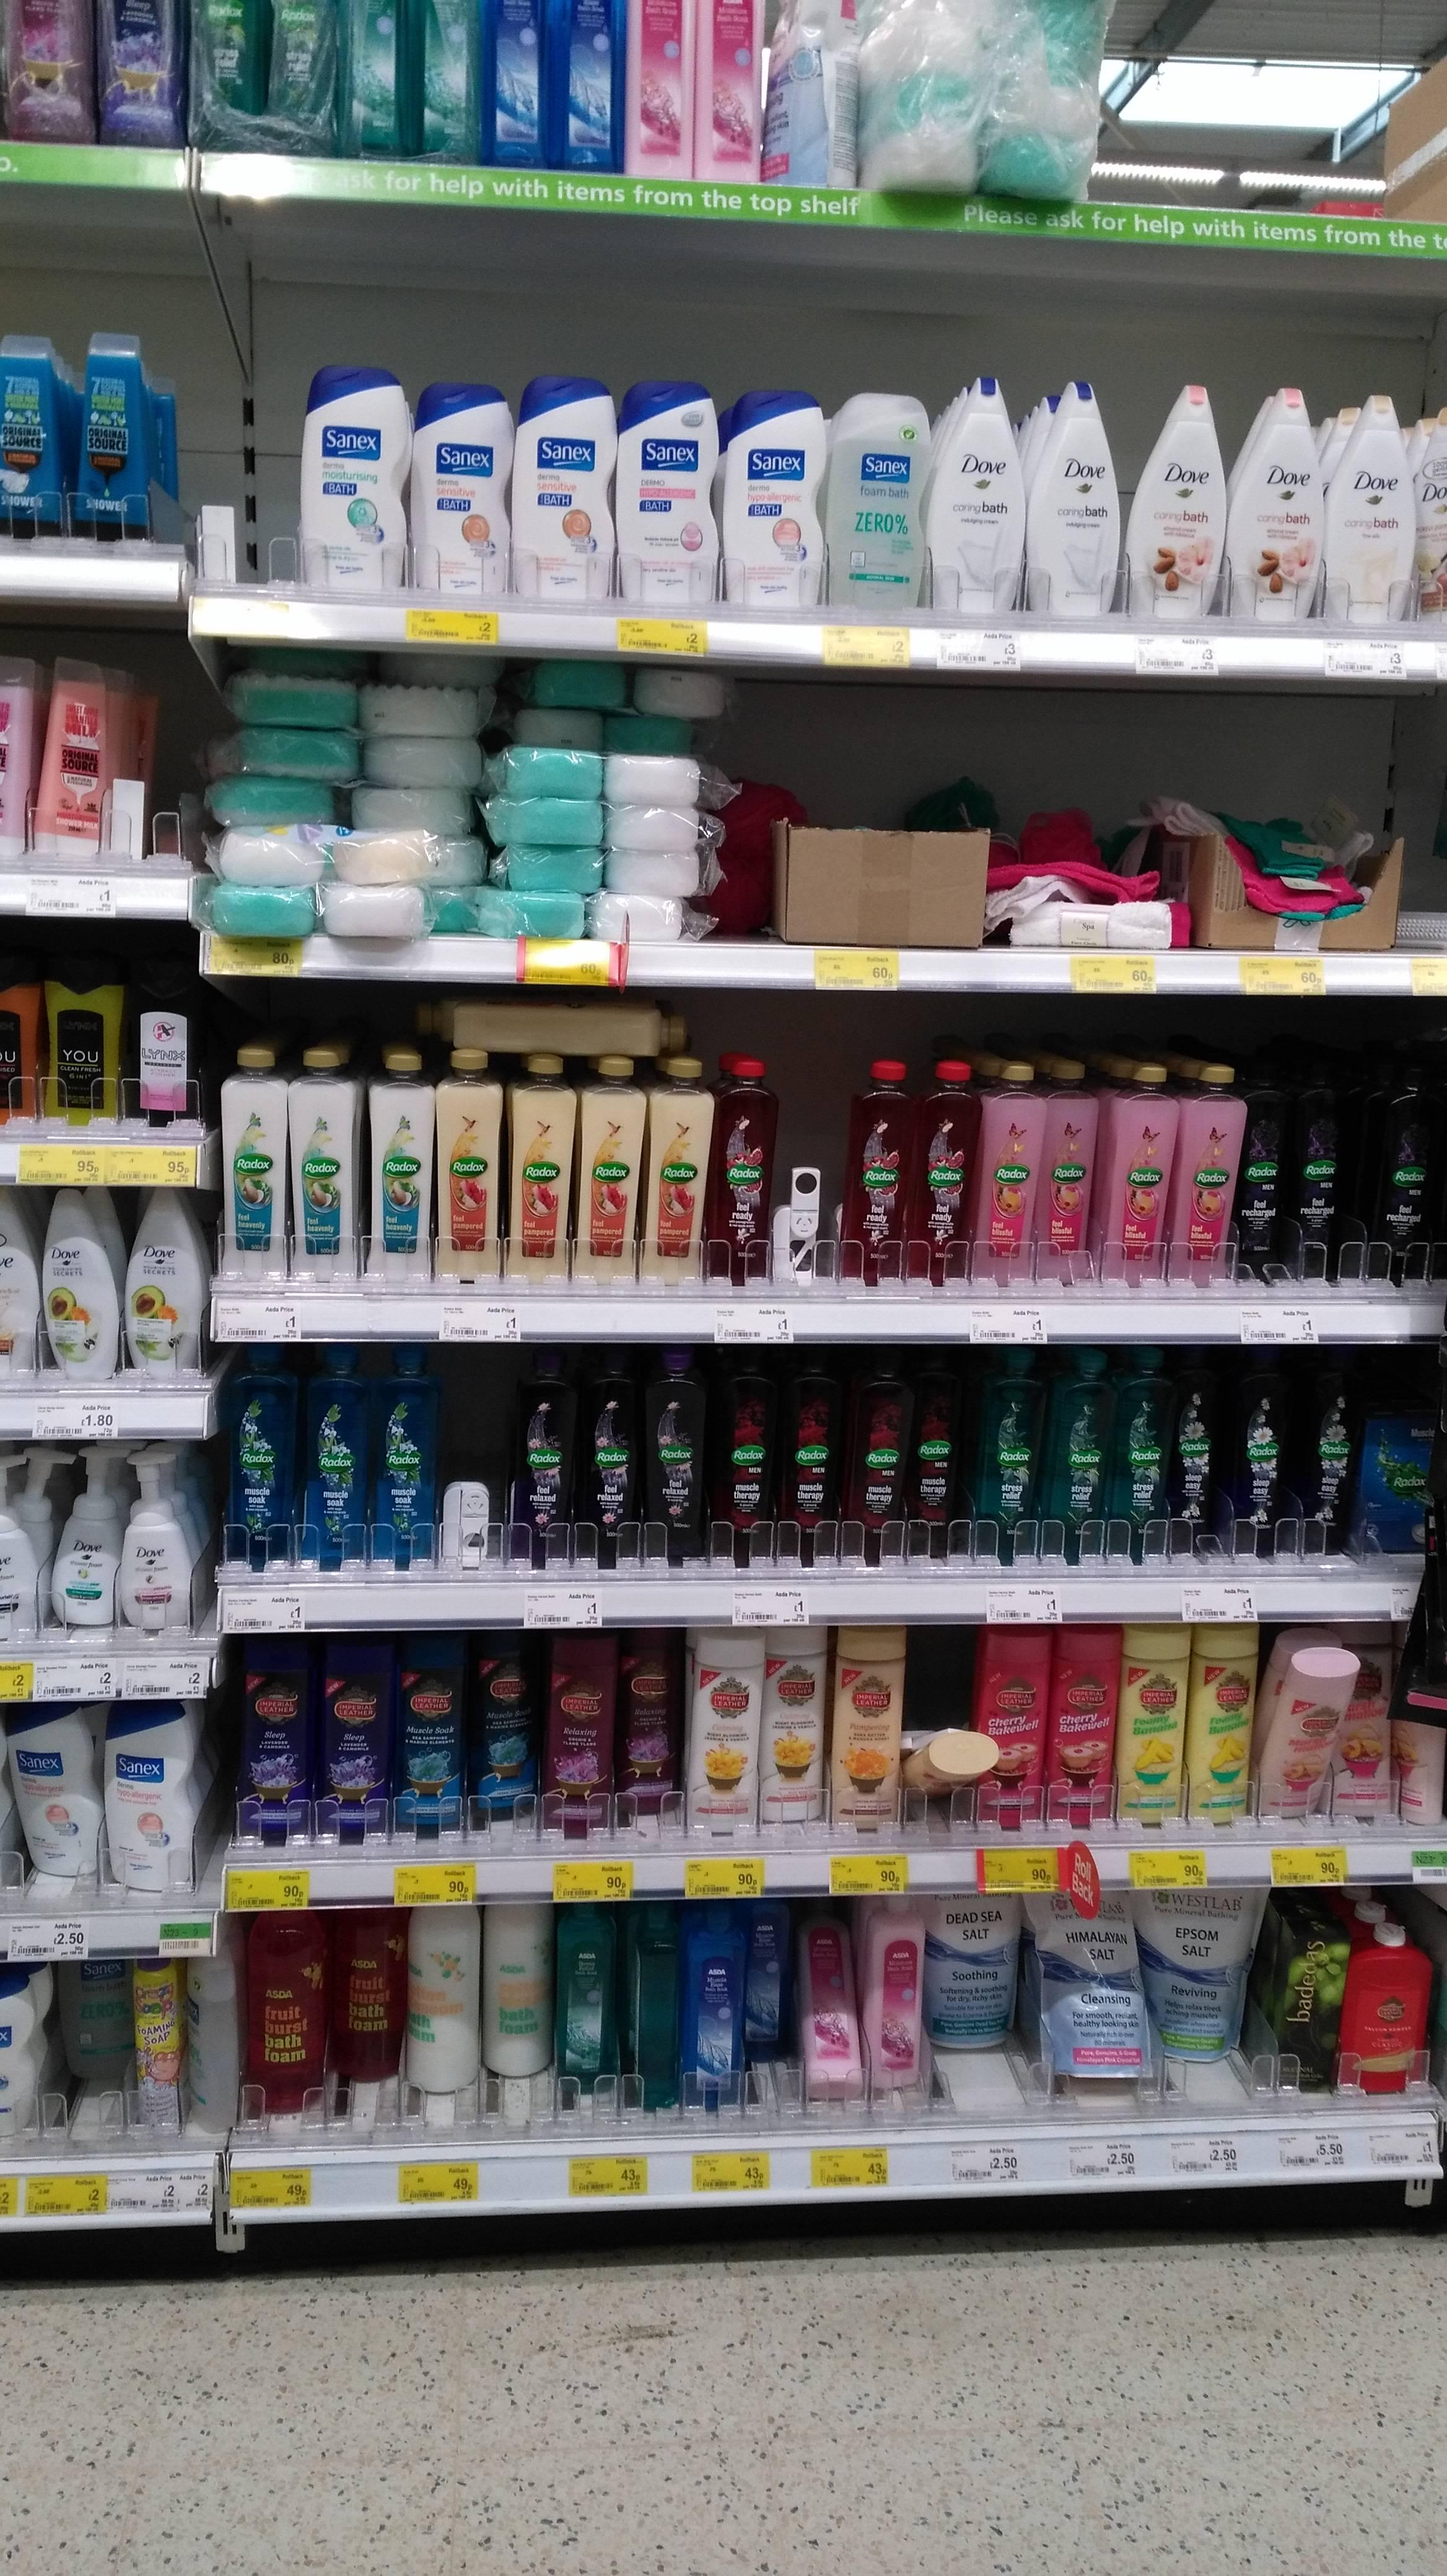misalignment: (1024, 1890, 1159, 2093), (0, 1697, 103, 1882), (1263, 1629, 1350, 1822), (435, 994, 701, 1056), (794, 1914, 861, 2102), (177, 1943, 242, 2134), (900, 1711, 1001, 1828), (624, 1911, 683, 2109)
